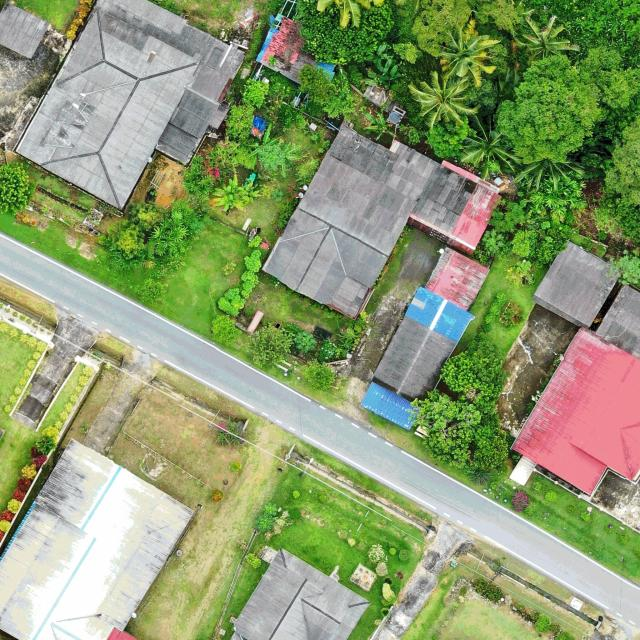Tree: (494, 54, 606, 165), (408, 386, 510, 476), (294, 0, 394, 63), (438, 337, 511, 399), (436, 22, 499, 90), (407, 68, 473, 130), (459, 114, 516, 180), (410, 0, 472, 58), (296, 62, 346, 120), (514, 15, 574, 62), (424, 114, 478, 159), (211, 171, 255, 214), (0, 160, 34, 213), (244, 125, 284, 158), (301, 361, 337, 394), (607, 249, 640, 285), (210, 314, 242, 348), (361, 63, 401, 89), (362, 110, 397, 138), (277, 143, 303, 178), (510, 230, 538, 256), (483, 230, 505, 253), (368, 42, 390, 65), (533, 612, 553, 634)
